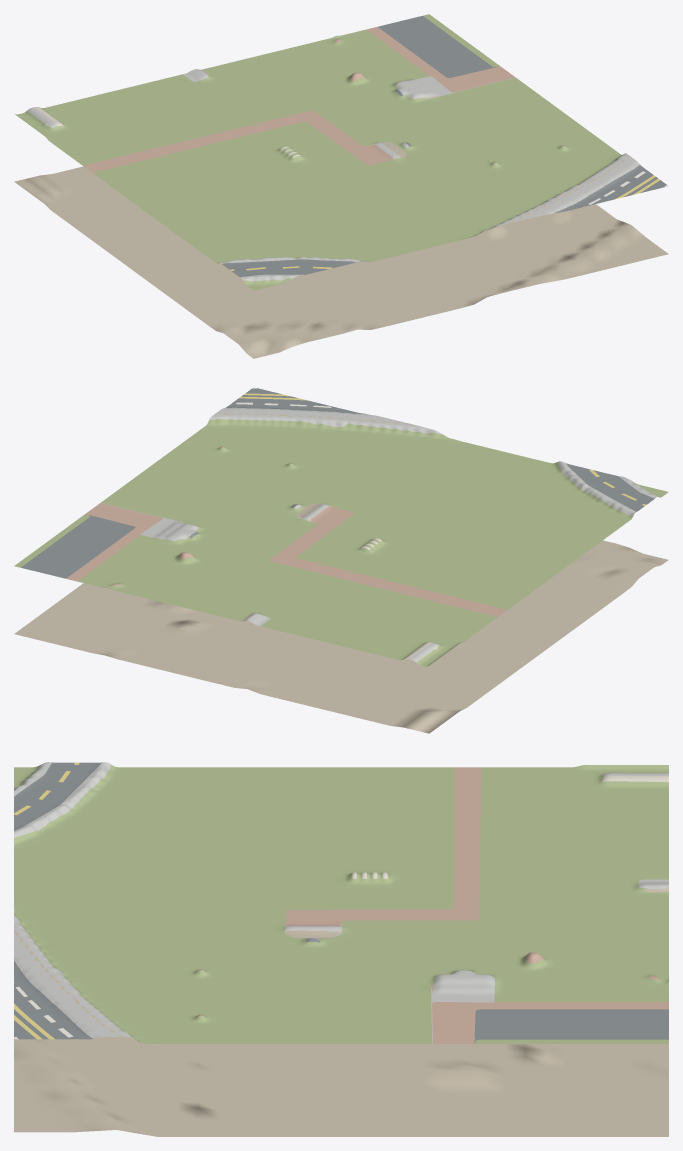
The picture shows the model from 3 angles, top to bottom: view 1: azimuth 30°, elevation 25°; view 2: azimuth 150°, elevation 25°; view 3: azimuth 270°, elevation 25°; orthographic projection. The views are drawn at different scales.
Visible parts, largest first — view 1: s_-10_1__grass, s_-10_1__soil, s_-10_1__asphalt, s_-10_1__brick_paving, s_-10_1__stone_paving; view 2: s_-10_1__grass, s_-10_1__soil, s_-10_1__asphalt, s_-10_1__brick_paving, s_-10_1__stone_paving; view 3: s_-10_1__grass, s_-10_1__soil, s_-10_1__asphalt, s_-10_1__brick_paving, s_-10_1__stone_paving, s_-10_1__yellow_marking, s_-10_1__paving.
Part boxes in pixels (x1,y1,x2,y2): s_-10_1__grass: (15, 14, 622, 290); s_-10_1__soil: (14, 69, 668, 358); s_-10_1__asphalt: (222, 15, 666, 276); s_-10_1__brick_paving: (83, 27, 564, 172); s_-10_1__stone_paving: (27, 69, 639, 281); s_-10_1__grass: (14, 419, 668, 666); s_-10_1__soil: (14, 503, 668, 733); s_-10_1__asphalt: (21, 388, 654, 578); s_-10_1__brick_paving: (66, 446, 507, 616); s_-10_1__stone_paving: (101, 407, 657, 662); s_-10_1__grass: (14, 764, 668, 1043); s_-10_1__soil: (14, 887, 668, 1136); s_-10_1__asphalt: (14, 762, 668, 1043); s_-10_1__brick_paving: (198, 767, 668, 1043); s_-10_1__stone_paving: (14, 762, 668, 1043); s_-10_1__yellow_marking: (14, 762, 79, 1039); s_-10_1__paving: (352, 775, 668, 878).
Size of the model in its own units: 128 by 21.98 by 128.
